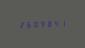eight: (45, 19, 51, 27)
four: (52, 19, 58, 27)
nine: (38, 20, 44, 27)
one: (59, 19, 65, 27)
six: (24, 20, 30, 28)
two: (17, 20, 23, 28)
zero: (31, 20, 37, 28)
